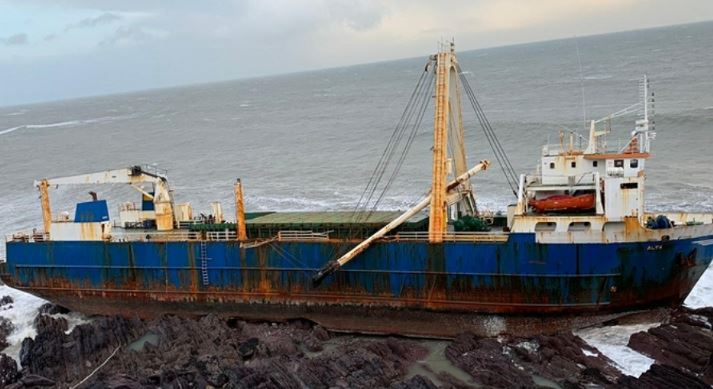rust: (238, 247, 288, 296), (100, 253, 147, 300), (324, 248, 366, 298), (485, 279, 555, 304), (423, 253, 449, 310), (182, 245, 201, 293)
